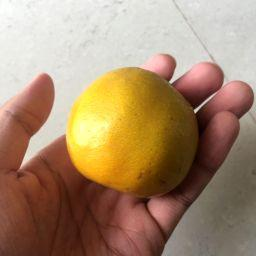Ripe: (65, 67, 193, 189)
